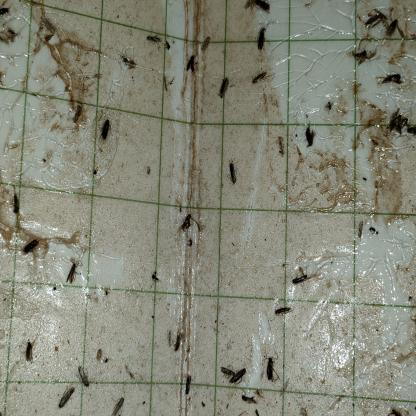prays_oleae: (251, 20, 273, 60), (249, 64, 273, 94), (261, 354, 281, 389), (19, 236, 42, 266), (180, 210, 198, 243), (213, 73, 234, 101), (98, 114, 114, 150), (56, 381, 76, 408), (364, 4, 382, 34), (270, 300, 295, 321), (63, 259, 81, 288), (242, 2, 276, 17), (226, 149, 238, 191), (291, 267, 314, 288), (354, 44, 371, 72), (145, 26, 165, 49), (184, 54, 200, 81), (197, 33, 215, 57), (76, 360, 90, 390), (70, 101, 85, 129), (22, 334, 35, 366), (217, 358, 235, 381), (388, 103, 400, 136), (385, 13, 400, 39), (382, 68, 402, 87), (9, 189, 22, 217), (238, 391, 262, 404), (110, 394, 127, 412), (230, 367, 249, 383), (182, 373, 194, 396), (172, 330, 184, 352), (398, 111, 409, 134), (407, 118, 415, 138)
